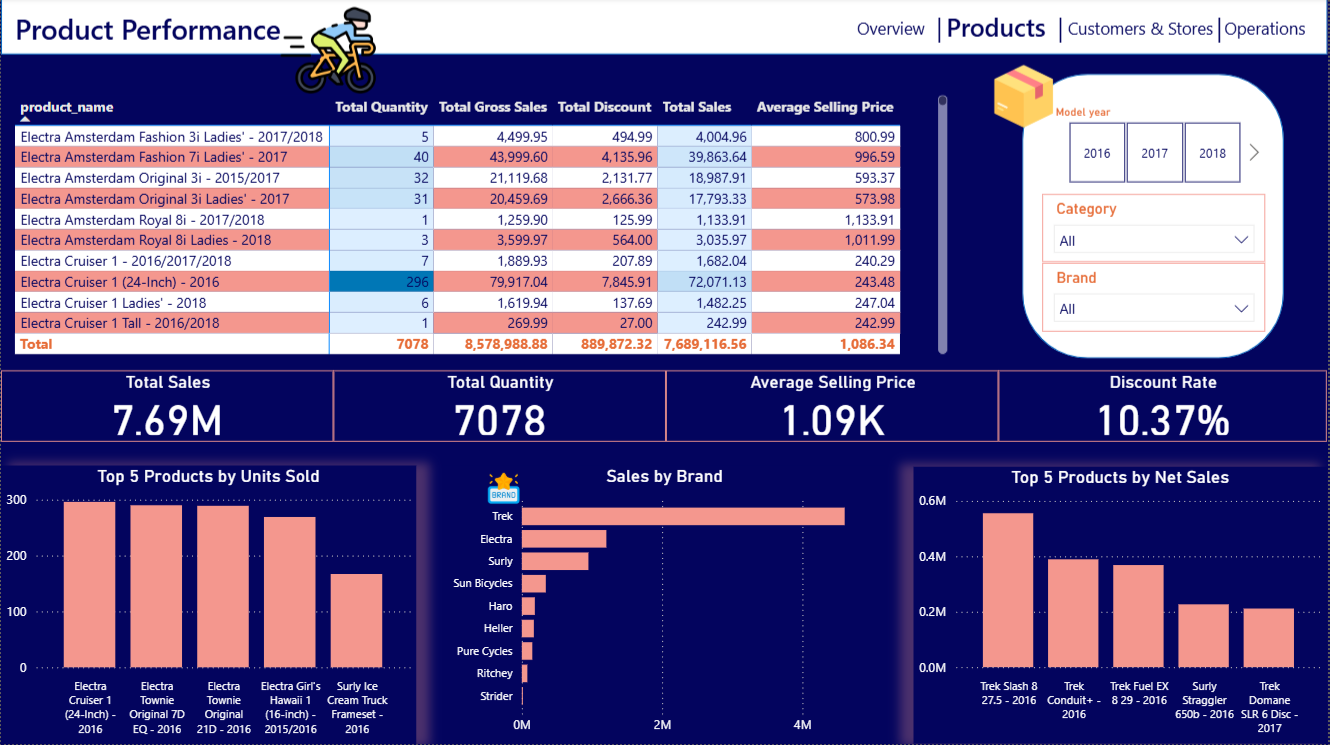

The page's visual inventory and layout, read from the dashboard file:
{"tool":"powerbi","page":{"name":"Product Performance","canvas":[1280,720],"ordinal":1},"visuals":[{"type":"shape","box":[985.3,74.1,252.5,274.4],"z":0},{"type":"shape","box":[0,0,1280.3,54.9],"z":1000},{"type":"card","title":"Total Sales","fields":{"Values":["Fact_Sales.Total Sales"]},"box":[0,359.5,321.1,68.6],"z":2000},{"type":"card","title":"Total Quantity","fields":{"Values":["Fact_Sales.Total Quantity"]},"box":[321.1,359.5,321.1,68.6],"z":3000},{"type":"card","title":"Average Selling Price","fields":{"Values":["Fact_Sales.Average Selling Price"]},"box":[642.2,359.5,321.1,68.6],"z":4000},{"type":"card","title":"Discount Rate","fields":{"Values":["Fact_Sales.Discount Rate"]},"box":[963.3,359.5,317,68.6],"z":5000},{"type":"columnChart","title":"Top 5 Products by Net Sales","fields":{"Category":["Dim_Product.product_name"],"Y":["Fact_Sales.Total Sales"]},"box":[881,452.8,399.3,267.6],"z":6000},{"type":"columnChart","title":"Top 5 Products by Units Sold","fields":{"Category":["Dim_Product.product_name"],"Y":["Fact_Sales.Total Quantity"]},"box":[0,451,400.7,269],"z":7000},{"type":"clusteredBarChart","title":"Sales by Brand","fields":{"Category":["Dim_Product.brand_name"],"Y":["Fact_Sales.Total Sales"]},"box":[426.2,451.5,429.5,269],"z":8000},{"type":"slicer","fields":{"Values":["Dim_Product.category_name"]},"box":[1004.5,189.4,215.4,65.9],"z":9000},{"type":"slicer","fields":{"Values":["Dim_Product.brand_name"]},"box":[1004.5,255.2,215.4,66],"z":10000},{"type":"slicer","fields":{"Values":["Dim_Product.model_year"]},"box":[1004.5,98.8,215.4,86.4],"z":11000},{"type":"textbox","box":[8.2,6.9,307.4,53.5],"z":12000},{"type":"actionButton","box":[1159.5,9.6,120.8,39.8],"z":13000},{"type":"actionButton","box":[1023.7,9.6,150.9,39.8],"z":14000},{"type":"textbox","box":[1167.8,6.9,20.6,46.7],"z":15000},{"type":"textbox","box":[907,6.9,108.4,46.7],"z":16000},{"type":"textbox","box":[1014.1,6.9,20.6,45.3],"z":17000},{"type":"textbox","box":[897.4,6.9,20.6,45.3],"z":18000},{"type":"actionButton","box":[820.6,9.6,76.8,39.8],"z":19000},{"type":"pivotTable","fields":{"Values":["Fact_Sales.Total Quantity","Fact_Sales.Total Gross Sales","Fact_Sales.Total Discount","Fact_Sales.Total Sales","Fact_Sales.Average Selling Price"],"Rows":["Dim_Product.product_name"]},"box":[8.2,89.2,909.8,259.3],"z":20000},{"type":"image","box":[262.1,0,108.4,101.5],"z":21000},{"type":"image","box":[938.6,60.4,96.1,70],"z":22000},{"type":"image","box":[451.5,452.8,67.2,41.2],"z":23000}]}

Visuals, with their boxes in screenshot pixels (x1, y1, x2, y2), scaled from the page's 1280x720 canvas onto the 1330x745 screenshot:
shape: [1024, 77, 1286, 361]
shape: [0, 0, 1329, 57]
"Total Sales" card: [0, 372, 334, 443]
"Total Quantity" card: [334, 372, 667, 443]
"Average Selling Price" card: [667, 372, 1001, 443]
"Discount Rate" card: [1001, 372, 1329, 443]
"Top 5 Products by Net Sales" columnChart: [915, 469, 1329, 744]
"Top 5 Products by Units Sold" columnChart: [0, 467, 416, 744]
"Sales by Brand" clusteredBarChart: [443, 467, 889, 744]
slicer - Dim_Product.category_name: [1044, 196, 1268, 264]
slicer - Dim_Product.brand_name: [1044, 264, 1268, 332]
slicer - Dim_Product.model_year: [1044, 102, 1268, 192]
textbox: [9, 7, 328, 62]
actionButton: [1205, 10, 1329, 51]
actionButton: [1064, 10, 1220, 51]
textbox: [1213, 7, 1235, 55]
textbox: [942, 7, 1055, 55]
textbox: [1054, 7, 1075, 54]
textbox: [932, 7, 954, 54]
actionButton: [853, 10, 932, 51]
pivotTable - Fact_Sales.Total Quantity x Fact_Sales.Total Gross Sales: [9, 92, 954, 361]
image: [272, 0, 385, 105]
image: [975, 62, 1075, 135]
image: [469, 469, 539, 511]
